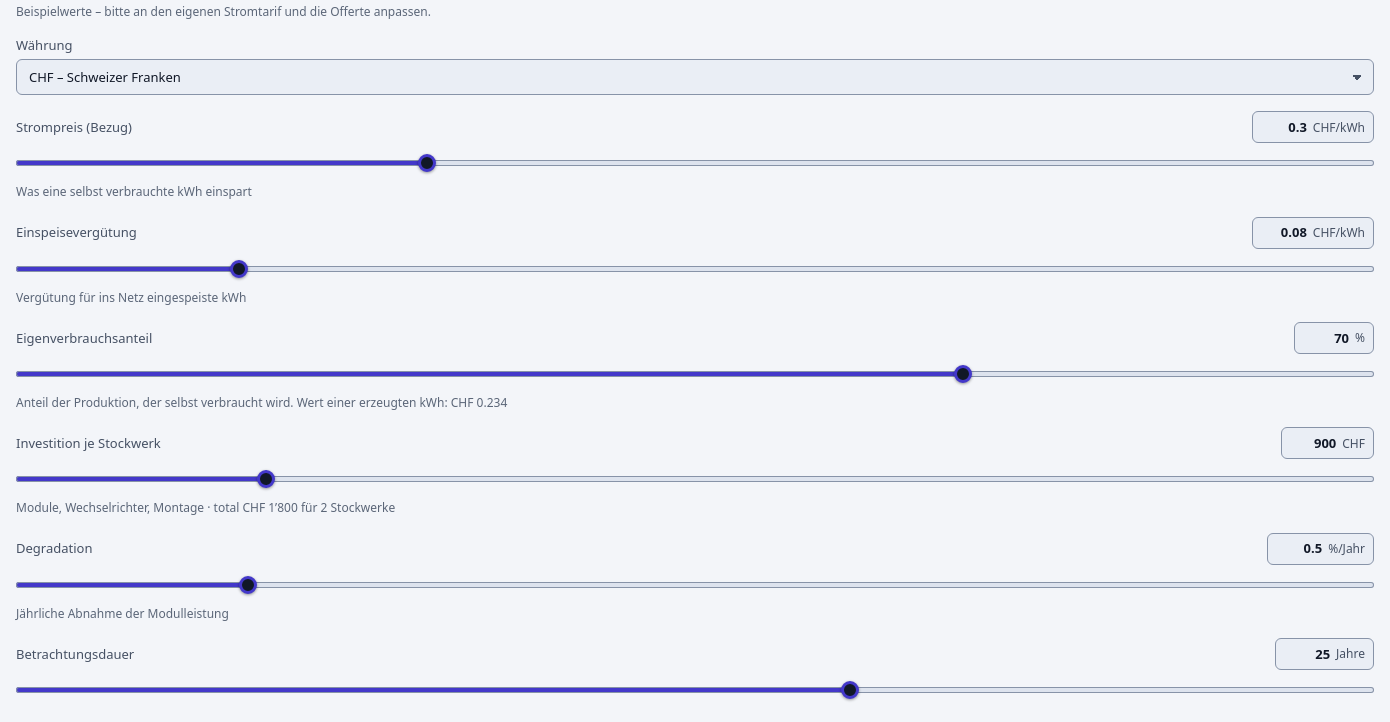
Test: EconomicsSection › restores the example values
The width and height of the screenshot is (1390, 722).
Replace the text in the field labelled "Eigenverbrauchsanteil" with "40" at (1327, 338), box [1303,328,1351,348]
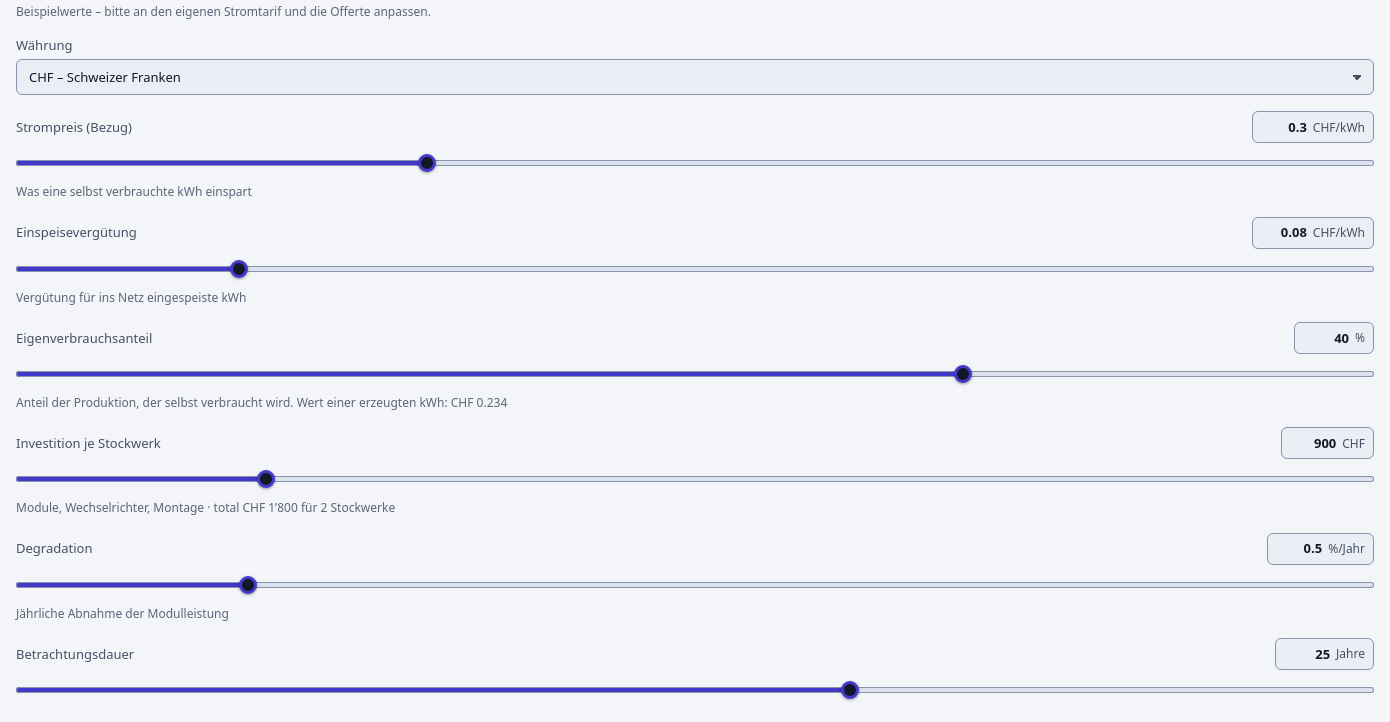
Press Enter in the field labelled "Eigenverbrauchsanteil", box [1303,328,1351,348]
(page scrolled)
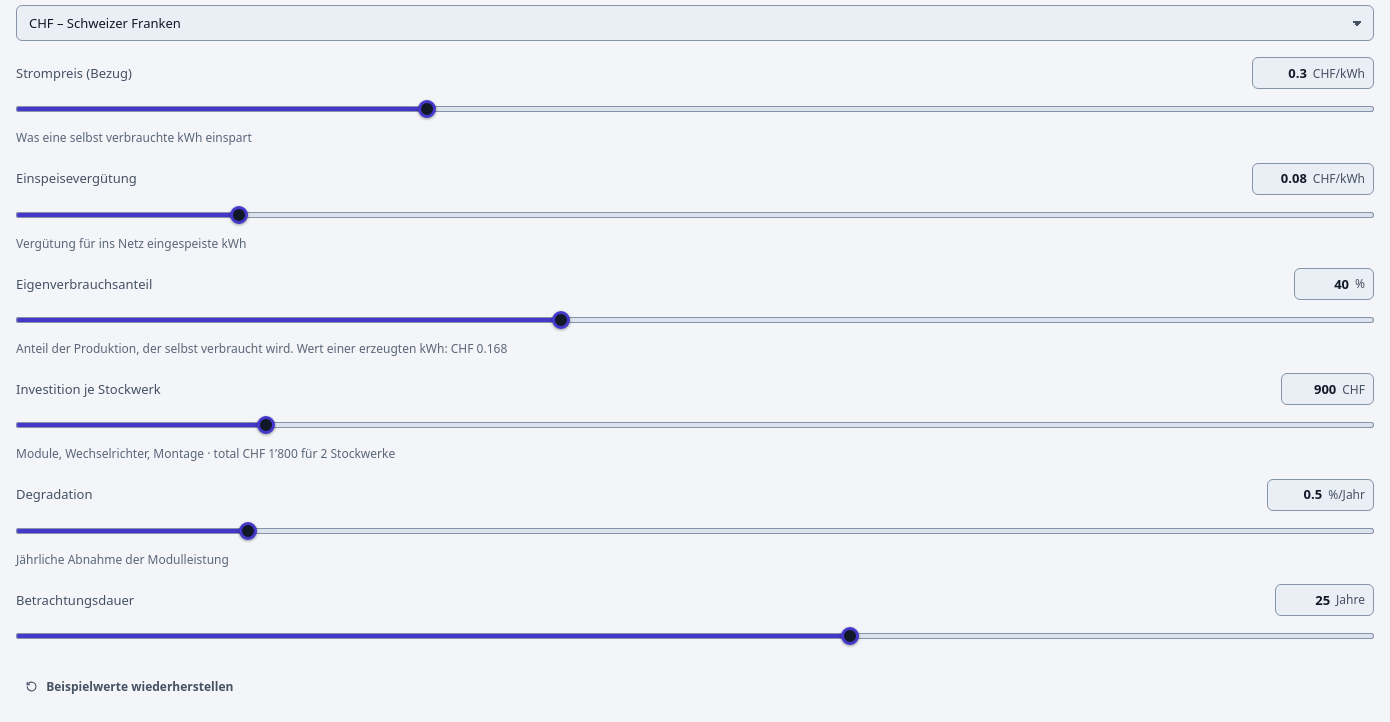
Check: the button "Beispielwerte wiederherstellen" is enabled
Click the button "Beispielwerte wiederherstellen".
click(129, 686)  # box [16,670,242,702]
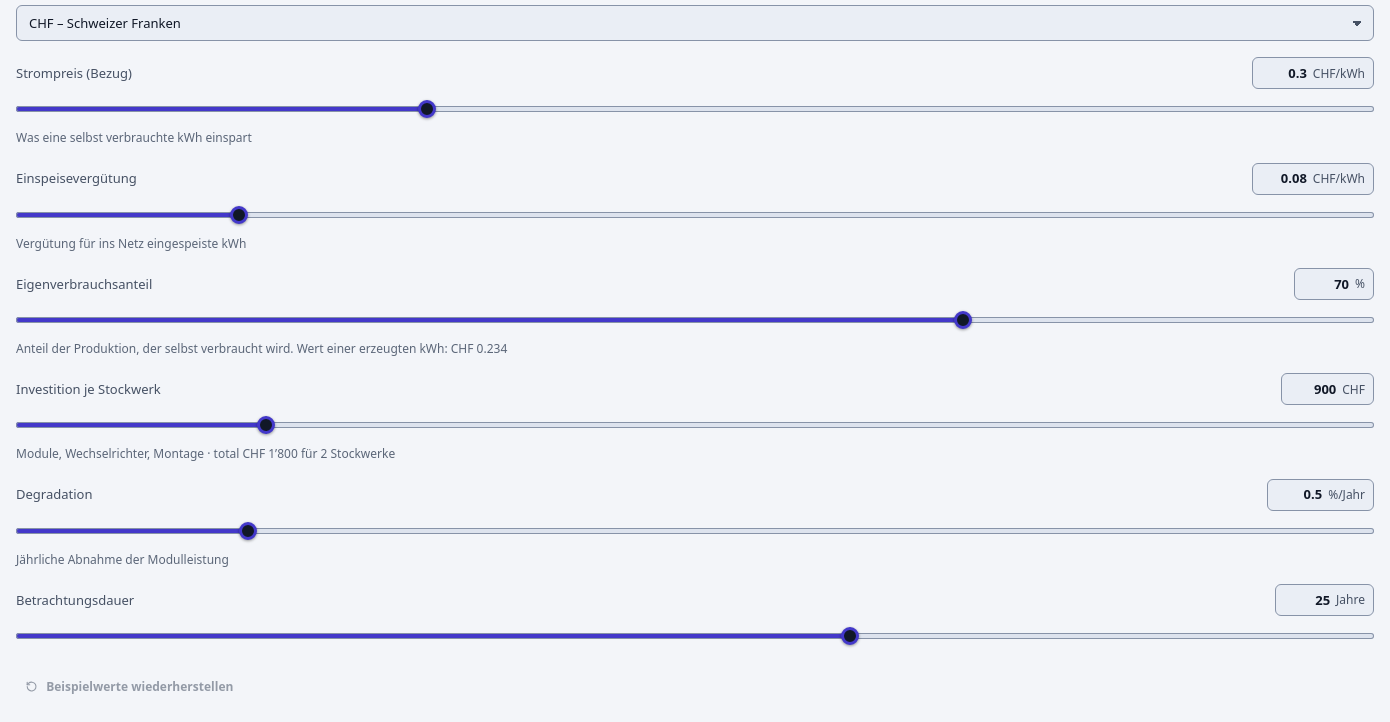
Check: the button "Beispielwerte wiederherstellen" is disabled, box [16,670,242,702]
